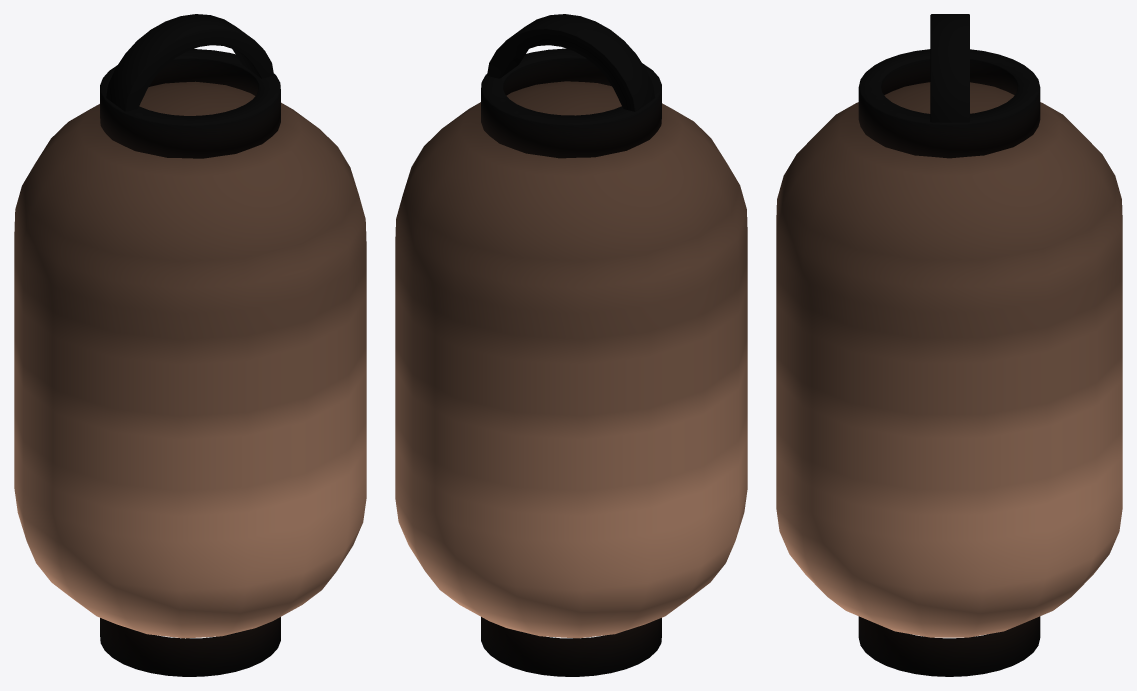
Rendered from Lantern_A.fbx.
3 renders of one model, left to right at view 1: azimuth 30°, elevation 25°; view 2: azimuth 150°, elevation 25°; view 3: azimuth 270°, elevation 25°, orthographic.
Parts seen in each view (by area): view 1: PP_Lantern_Rim_Low; view 2: PP_Lantern_Rim_Low; view 3: PP_Lantern_Rim_Low.
Part boxes in pixels (x1,y1,x2,y2): PP_Lantern_Rim_Low: (14, 14, 366, 676); PP_Lantern_Rim_Low: (395, 14, 747, 676); PP_Lantern_Rim_Low: (776, 14, 1122, 676).
Bounding box in the file's own units: 47.81 × 93.86 × 47.81.
